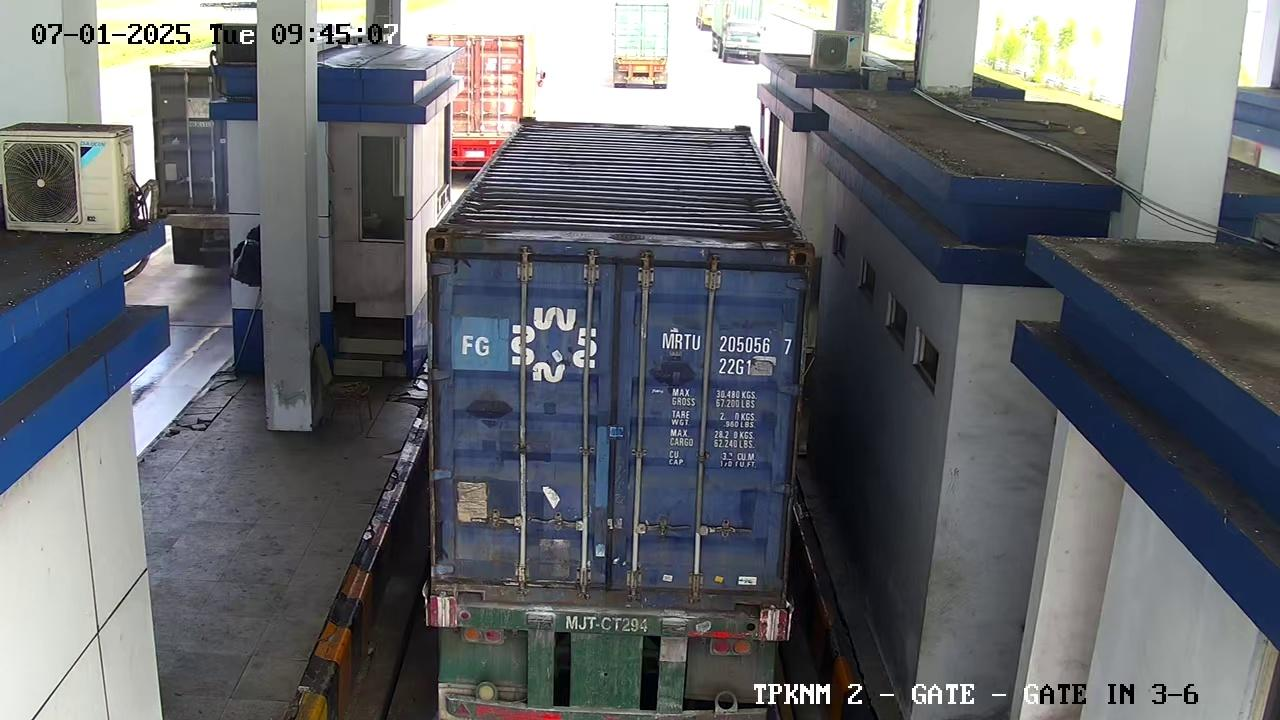Container_ID: (646, 323, 807, 356)
